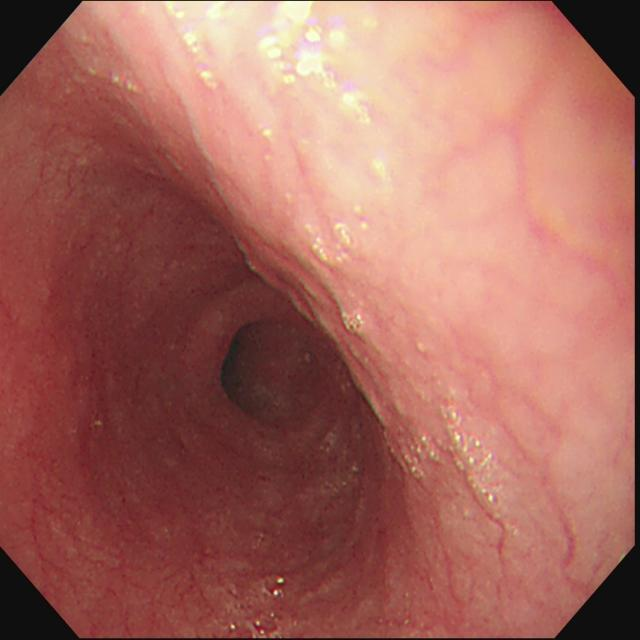E: (210, 311, 322, 434)
T: (447, 413, 503, 518), (237, 572, 293, 640)
U: (165, 2, 375, 120)
